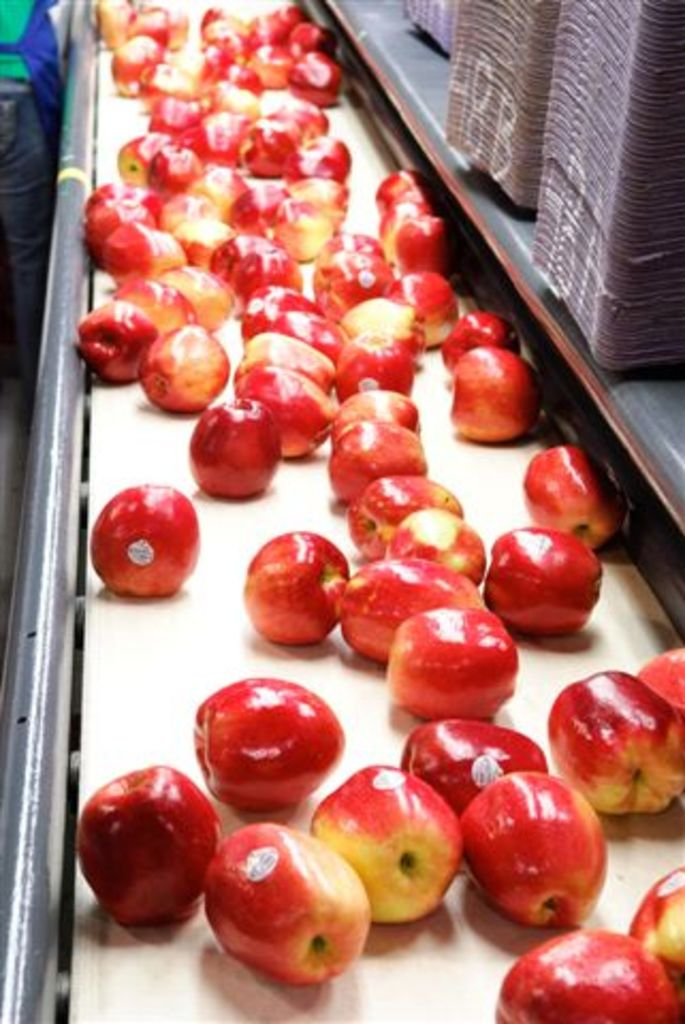Apple: (74, 0, 682, 1021), (206, 810, 377, 985)
